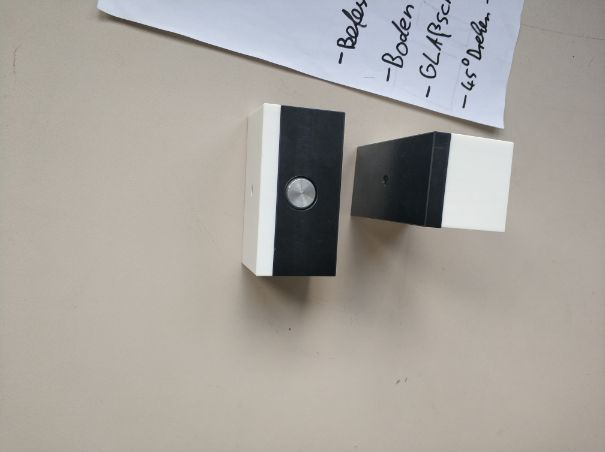white+black+silver: (240, 102, 348, 278)
